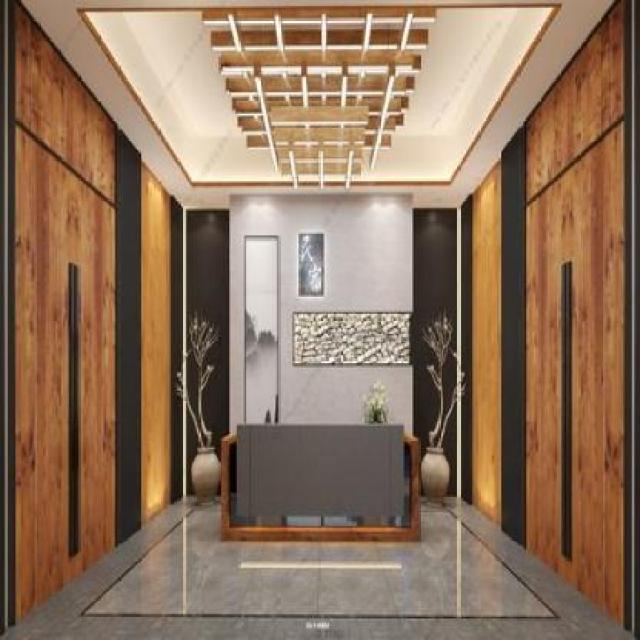frontdesk: (206, 409, 429, 541)
